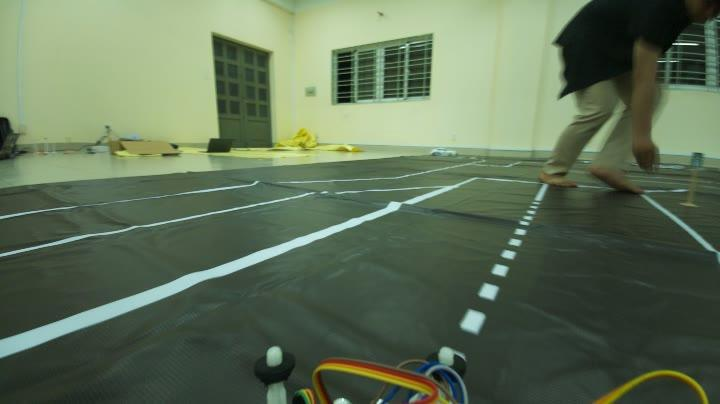highway_entry: (684, 143, 704, 172)
